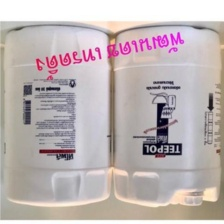cleaning_solution: (108, 22, 223, 210), (0, 21, 114, 208)
